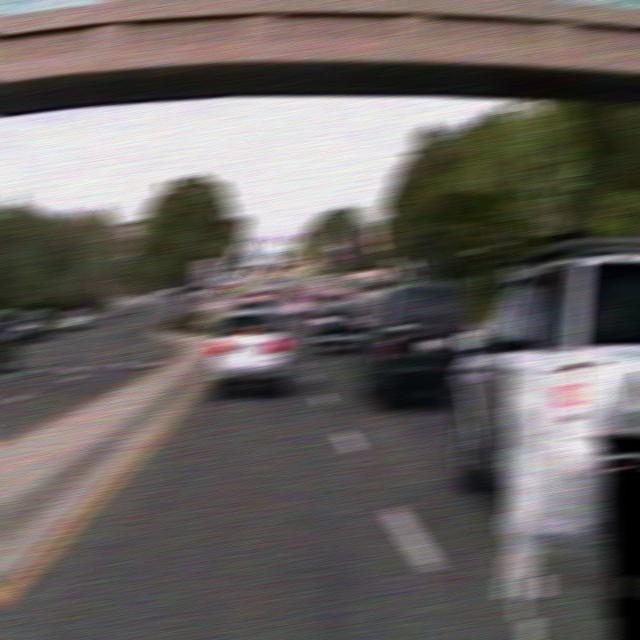speedLimit45: (194, 258, 218, 285)
